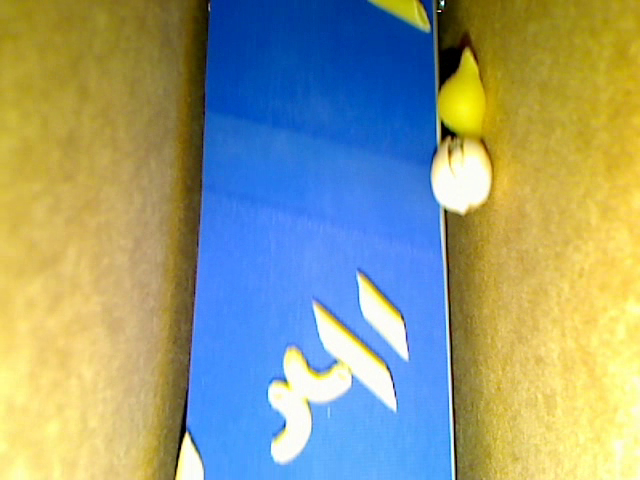elbow: (280, 343, 352, 404), (265, 377, 313, 465)
penne: (311, 300, 397, 411), (354, 270, 408, 361), (367, 1, 430, 34)
shell: (439, 49, 486, 141)
